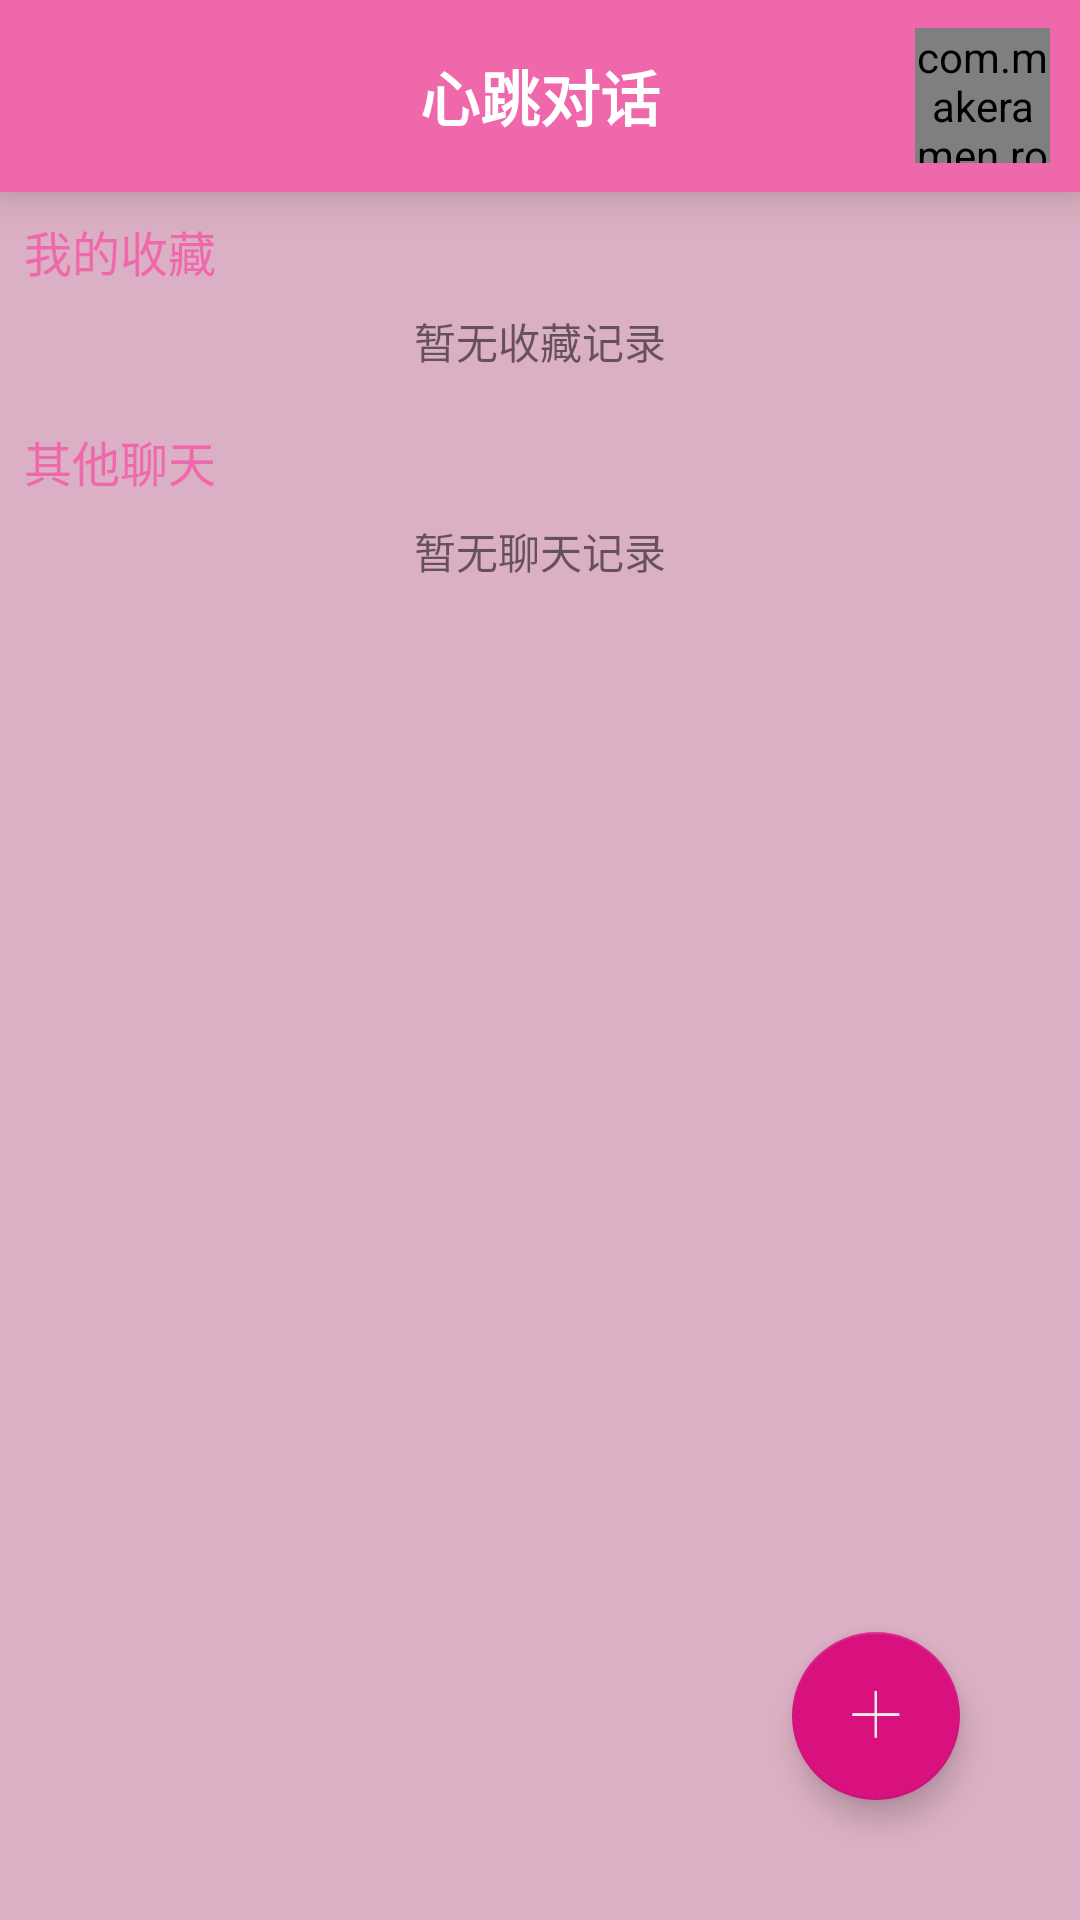

Icons on this 1080w x 1920h Android screen, each with the point to tap as (x=x, y=y):
add: (x=876, y=1716)
